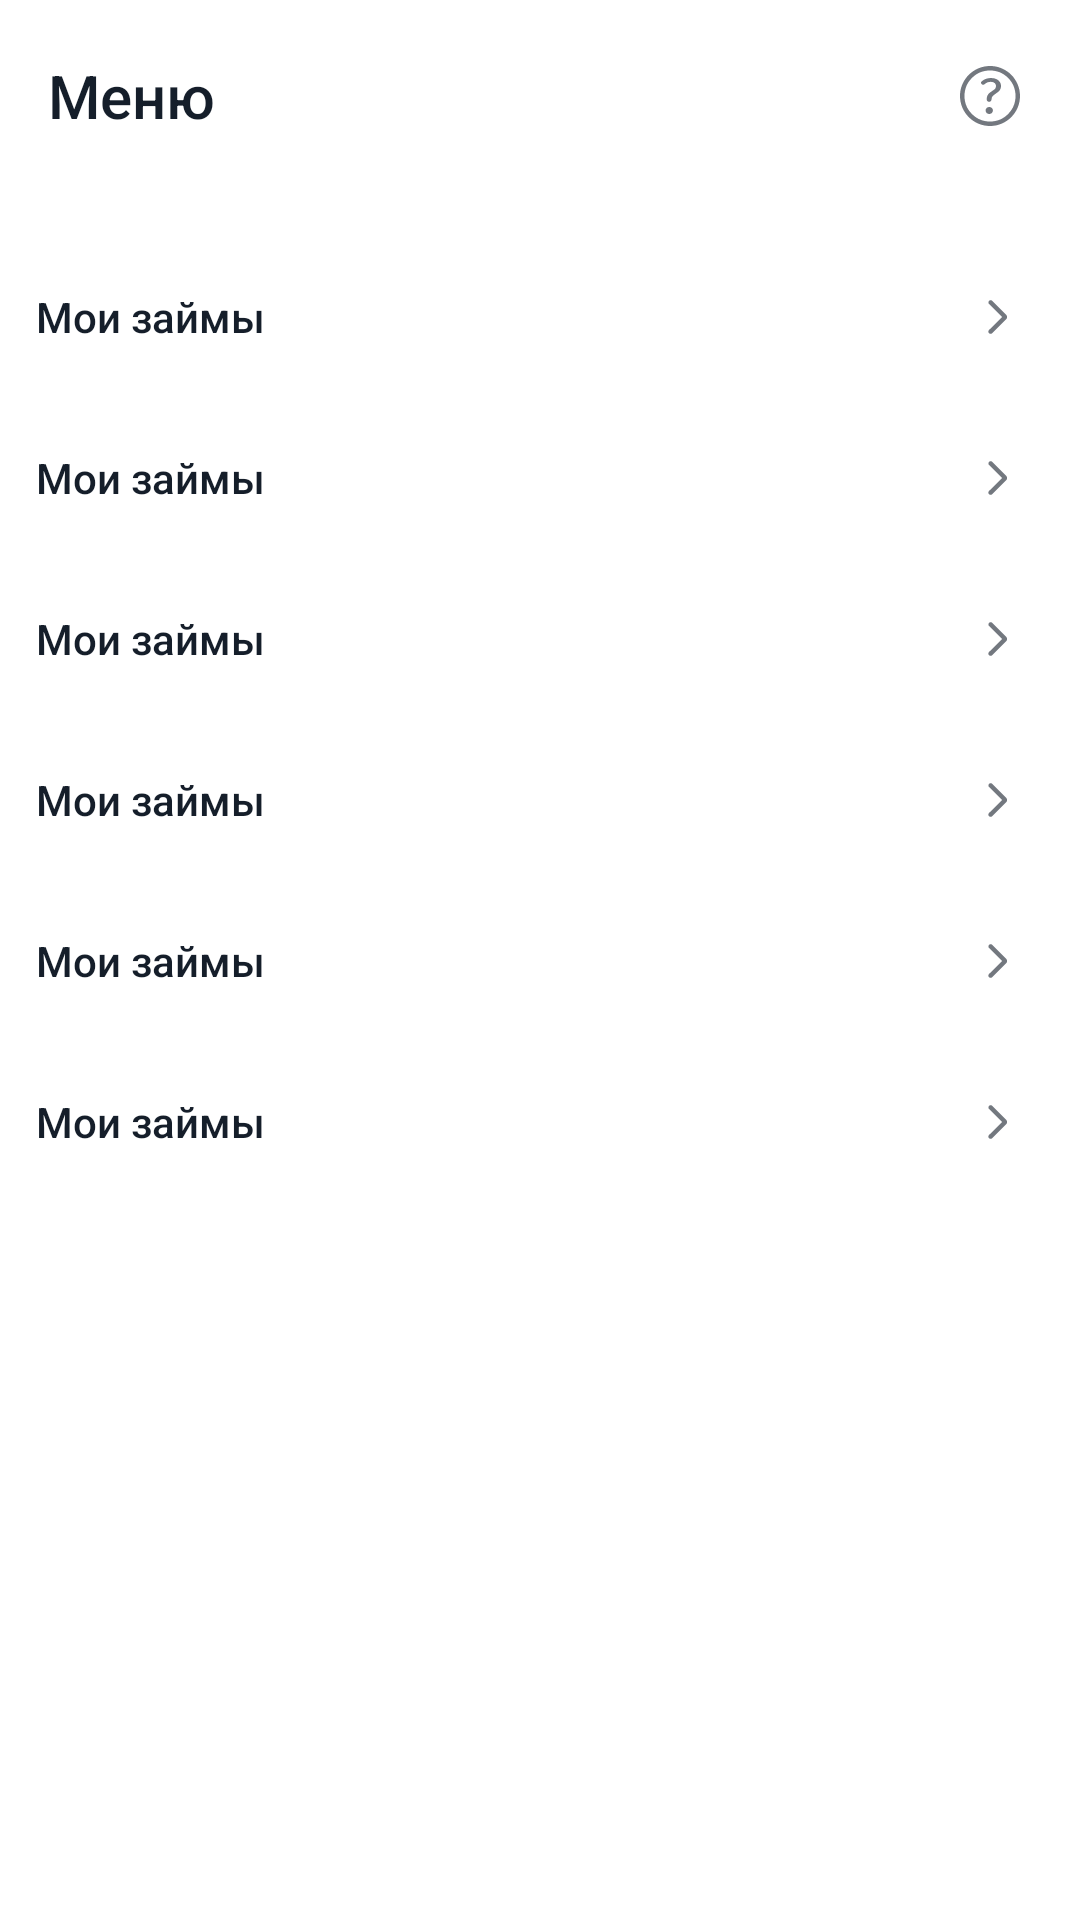

Named icons in this screenshot (1080px x 1920px) and their bounding boxes, [x1, y1, x2, y2]:
next: [988, 300, 1007, 334], [988, 461, 1007, 495], [988, 622, 1007, 656], [988, 783, 1007, 817], [988, 944, 1007, 978], [988, 1105, 1007, 1139]
question: [960, 66, 1020, 126]
